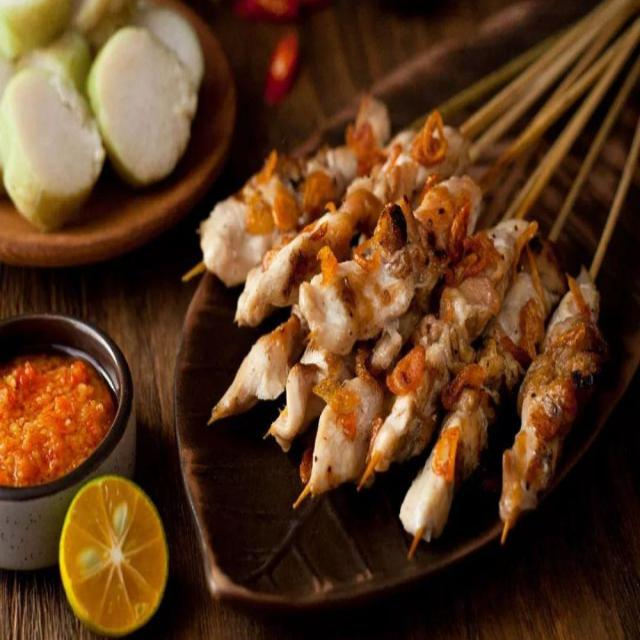Sate: (219, 1, 639, 603)
